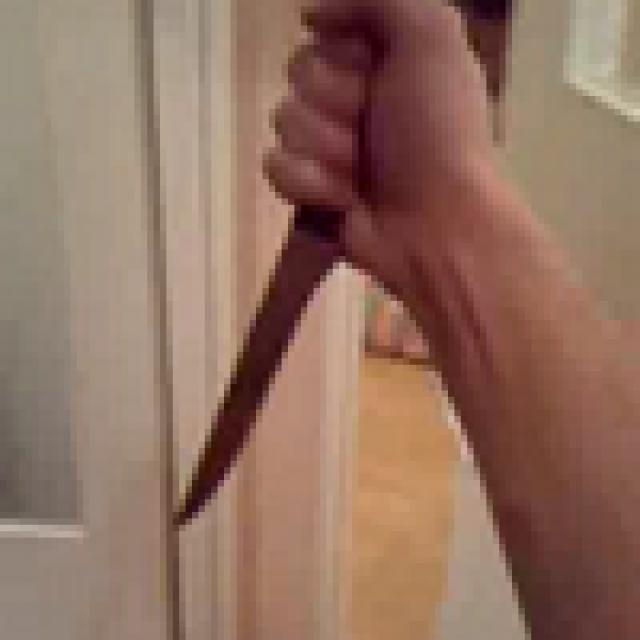Knife: (166, 6, 378, 525)
